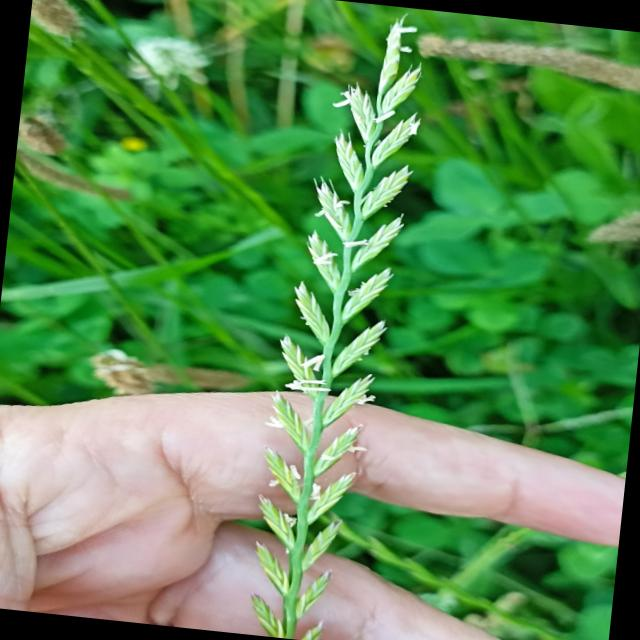Lolium: (234, 3, 436, 640)
